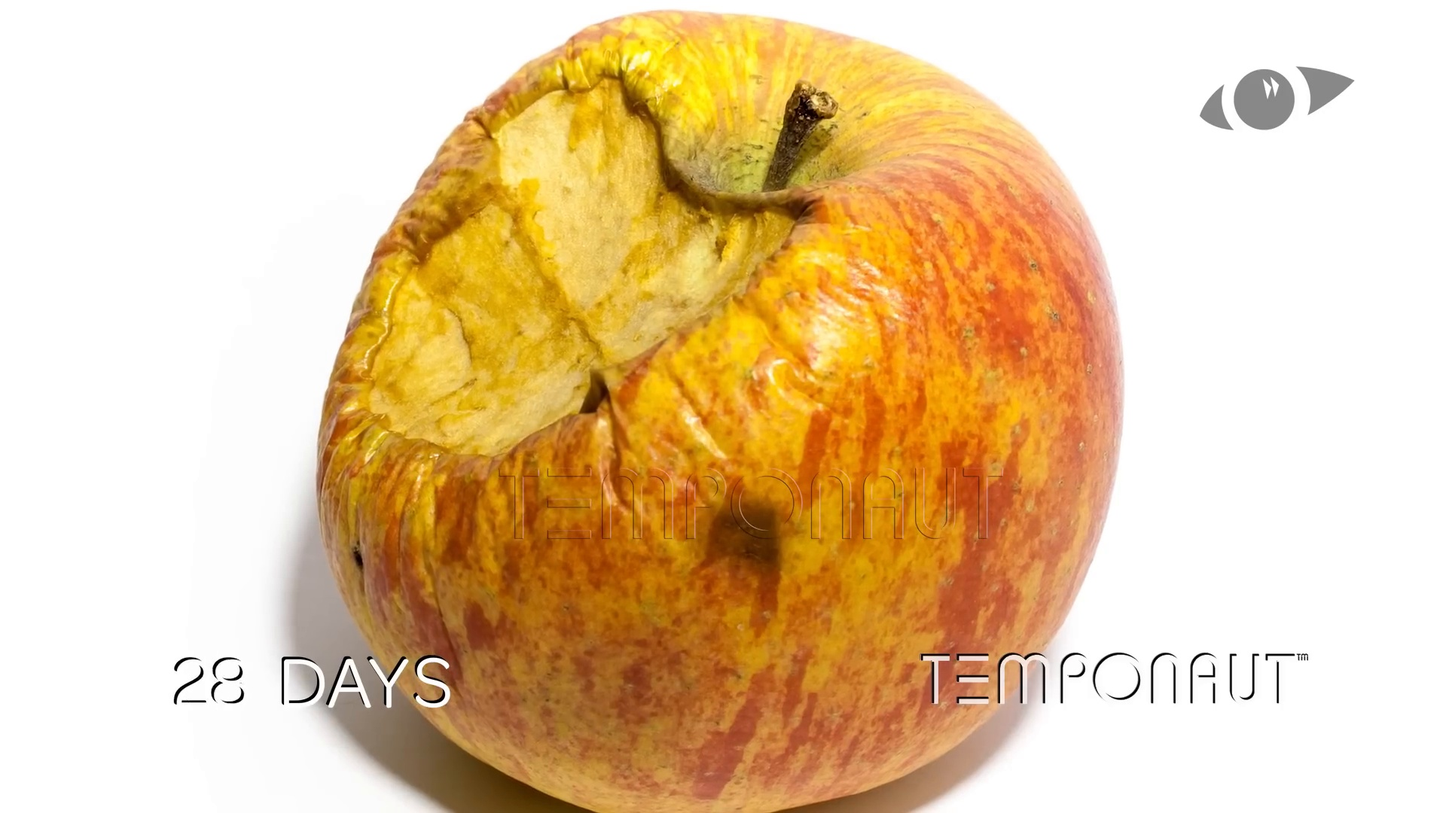apple_rotten: (316, 10, 1125, 801)
